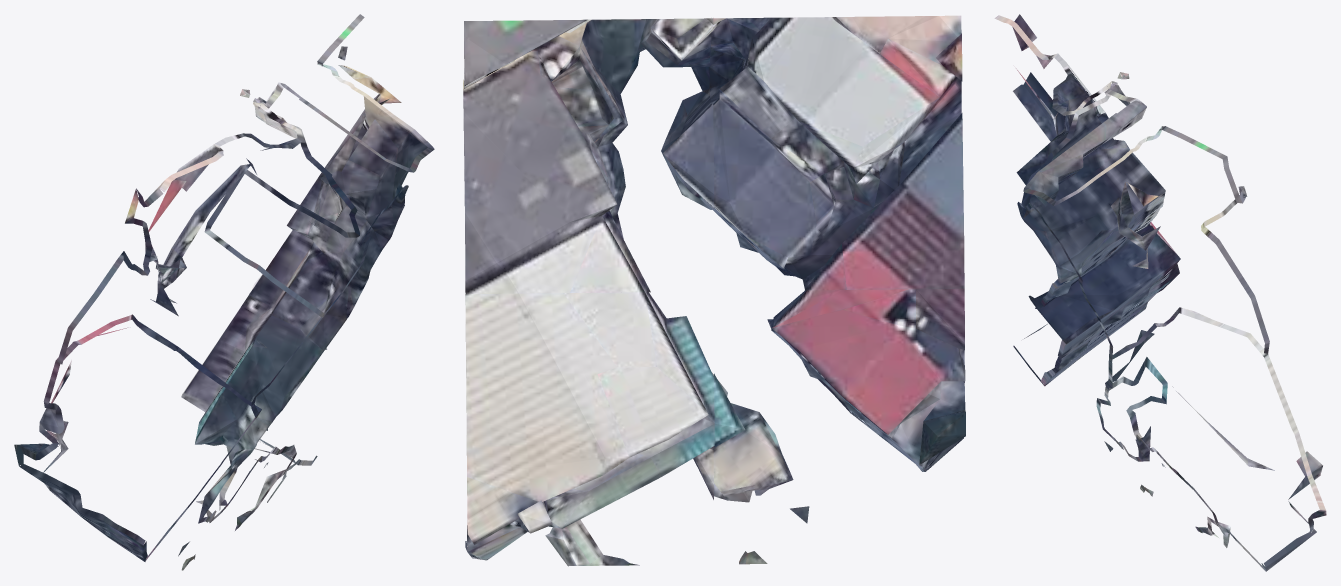
3 views of the same model, side by side, from view 1: azimuth 30°, elevation 25°; view 2: azimuth 150°, elevation 25°; view 3: azimuth 270°, elevation 25° (orthographic). The views are drawn at different scales.
Size of the model in its own units: 36.85 by 40.92 by 27.69.
Materials: 2 (2 with a texture image).
